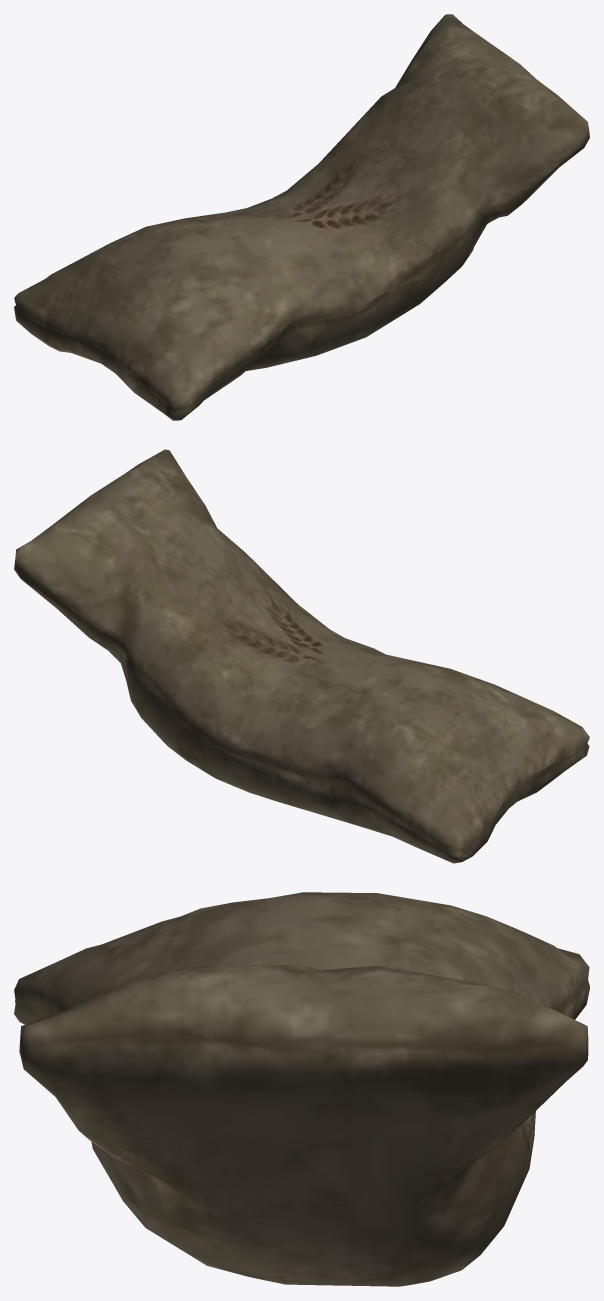
The model's file is PRP_SeedPile_lod.glb.
3 views of the same model, one above another, from view 1: azimuth 30°, elevation 25°; view 2: azimuth 150°, elevation 25°; view 3: azimuth 270°, elevation 25° (orthographic). The views are drawn at different scales.
Parts seen in each view (by area): view 1: Object_4; view 2: Object_4; view 3: Object_4.
Boxes of the visible parts, box(x1,y1,x2,y2) form: Object_4: box(14, 14, 589, 420); Object_4: box(14, 449, 589, 863); Object_4: box(14, 892, 589, 1286).
Size of the model in its own units: 1.05 by 0.5317 by 0.6077.
1 material, 1 textured.
